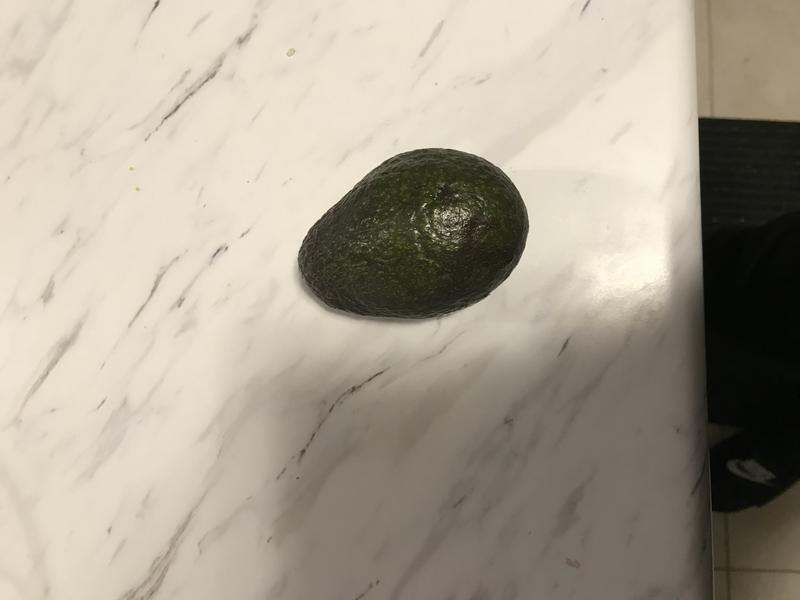avacado: (286, 138, 538, 330)
